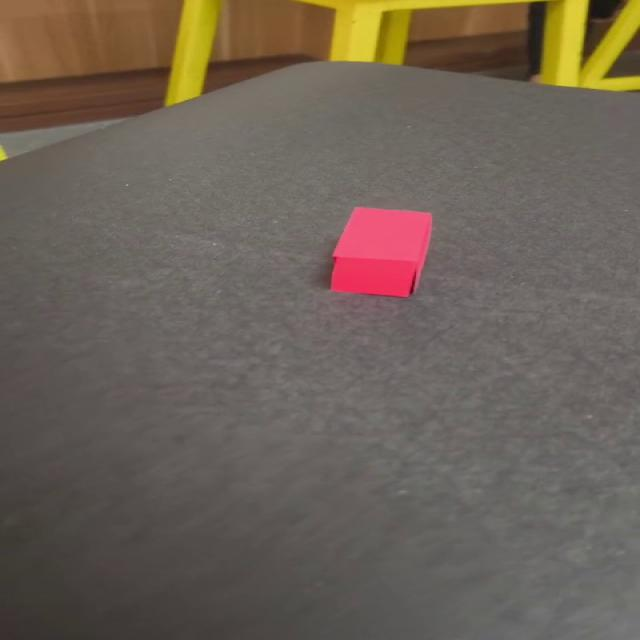red block: (328, 205, 432, 298)
